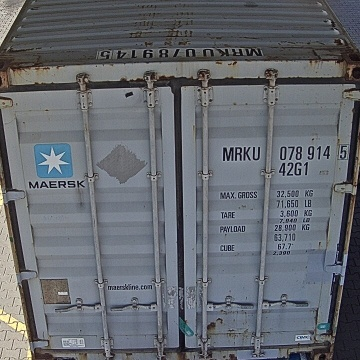serial_id: (223, 144, 348, 160)
